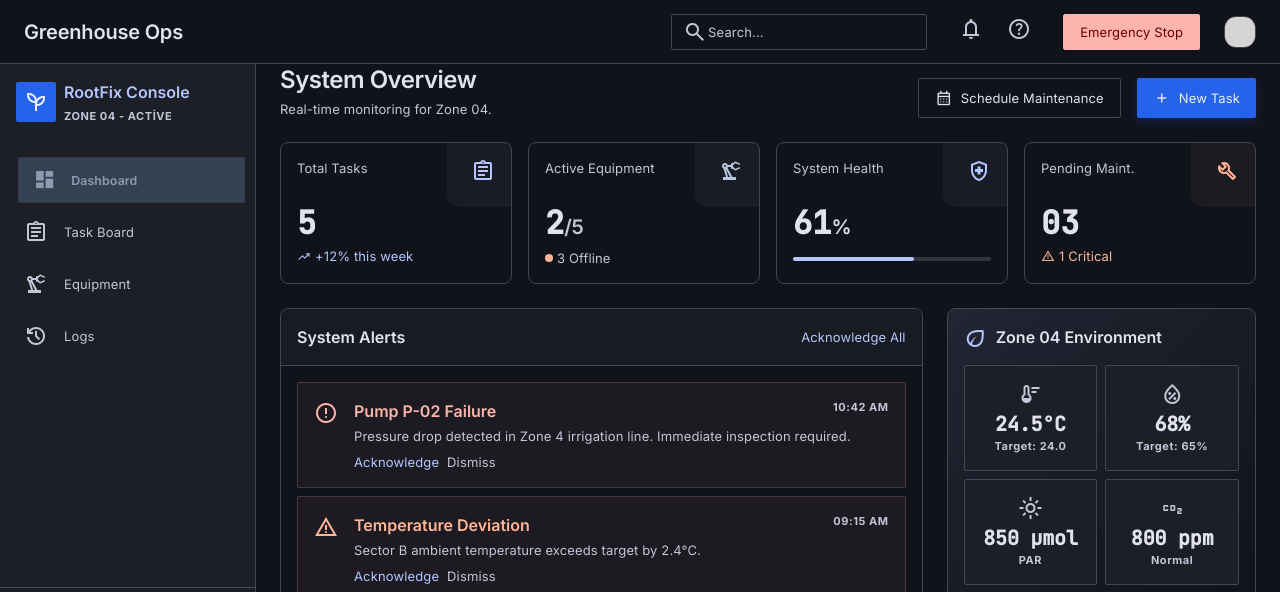
Test: App shell › navigates to Logs via sidebar
Click the button "Logs" at (128, 336), box x1=8 y1=312 x2=247 y2=360
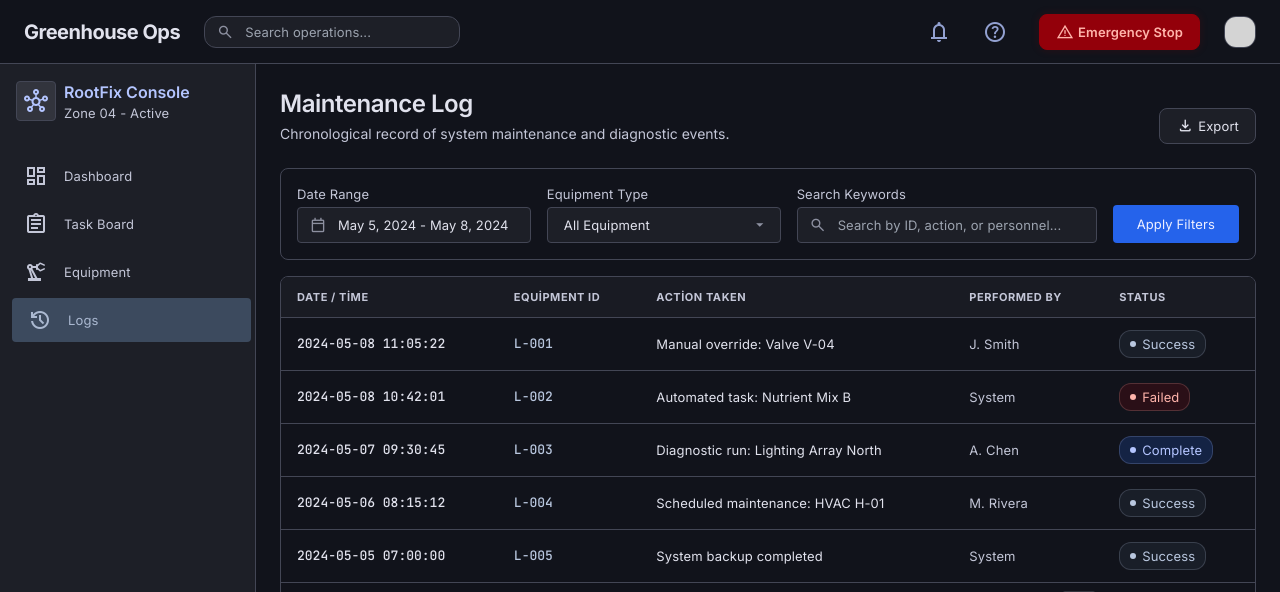
expect the heading "Maintenance Log" is shown: met, box x1=280 y1=89 x2=473 y2=118
